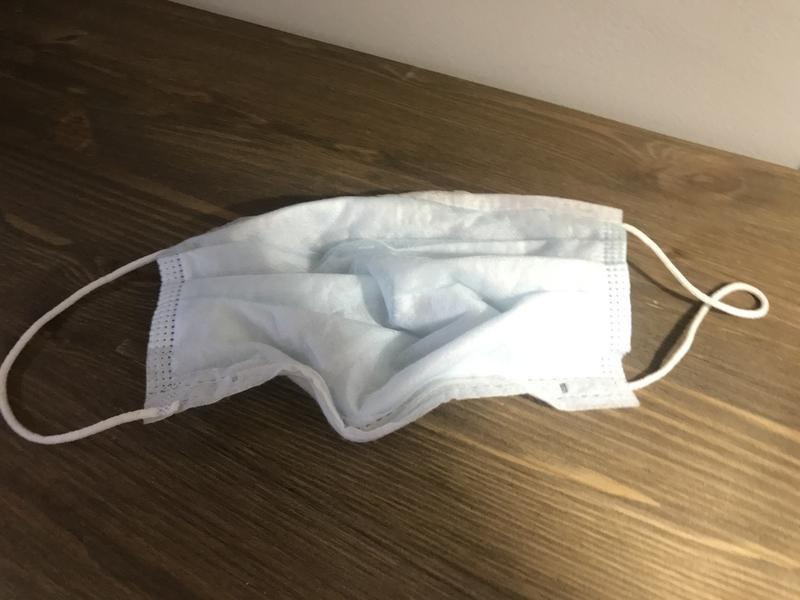medical_mask: (1, 187, 770, 448)
